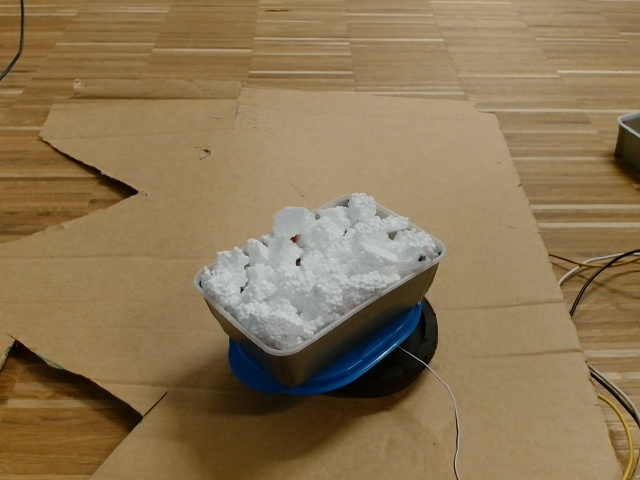Small_full: (190, 191, 448, 364)
